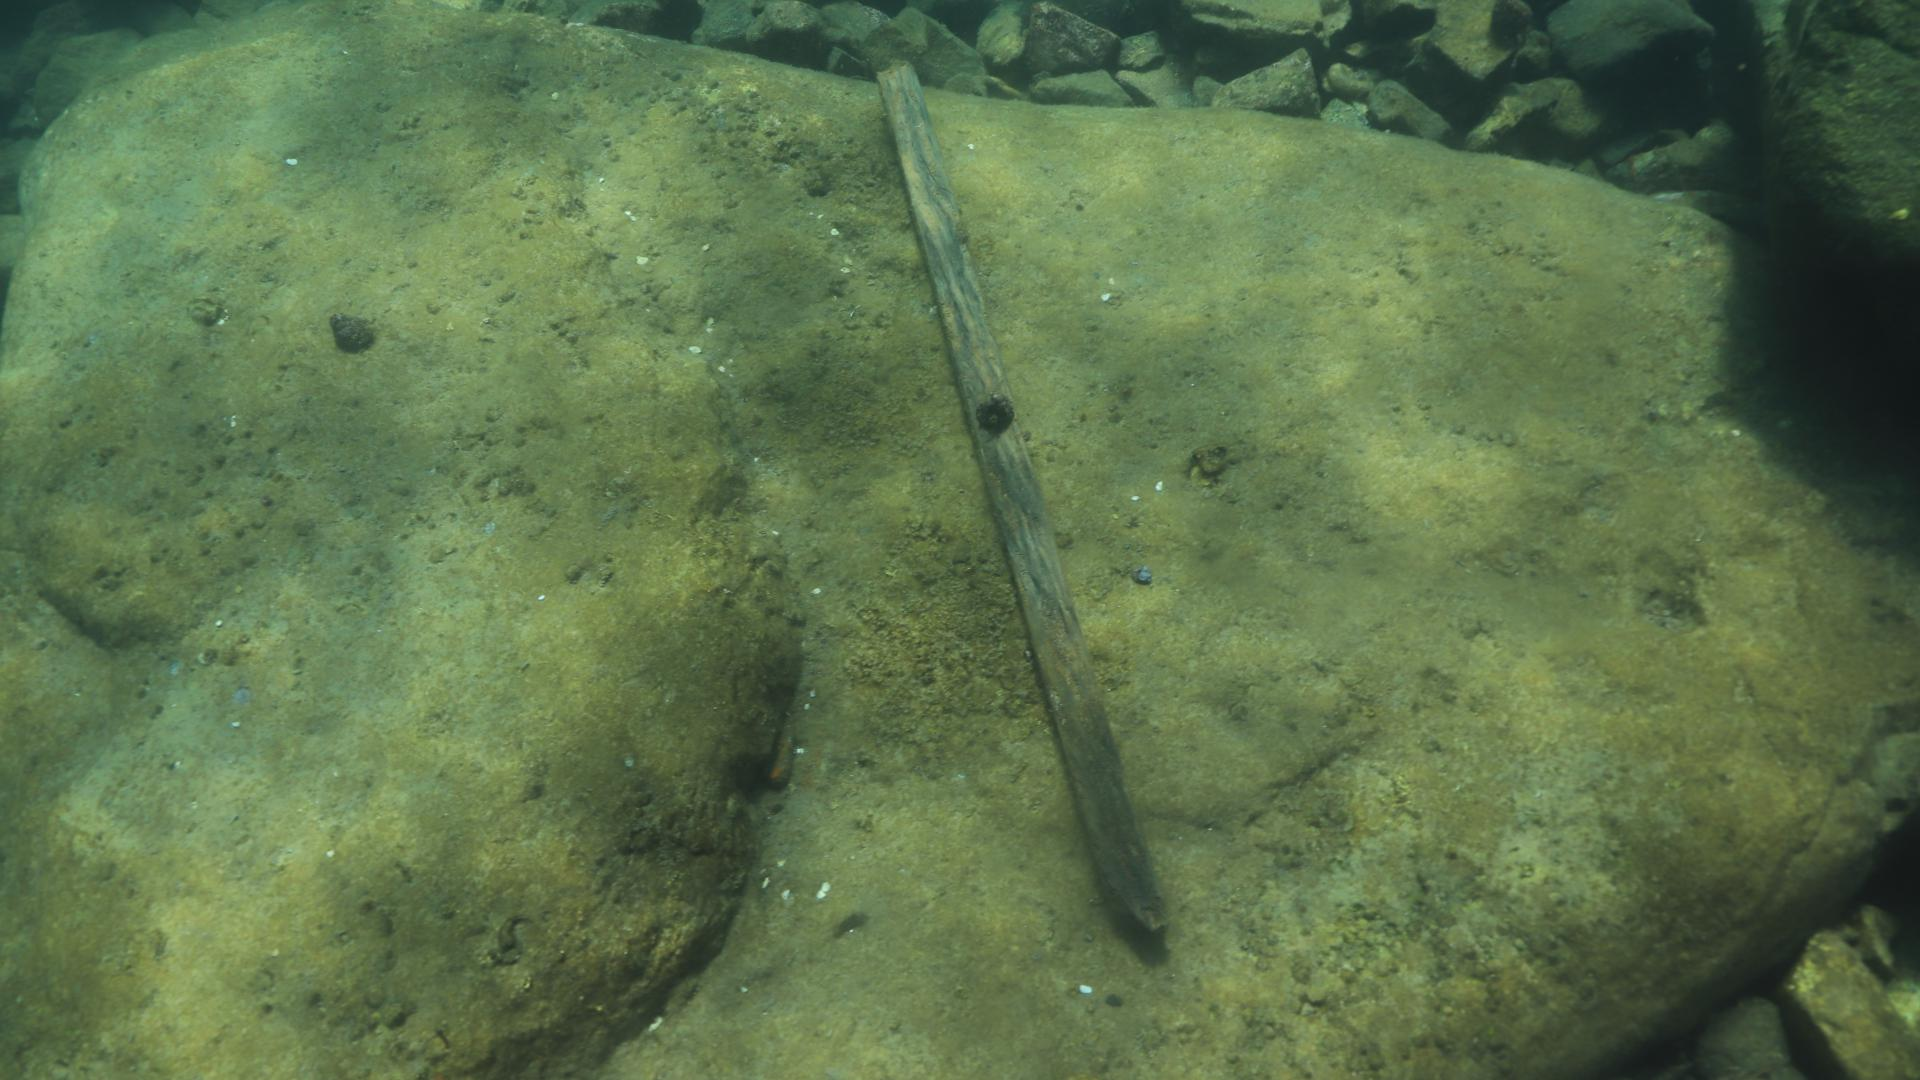wood: (869, 54, 1174, 938)
